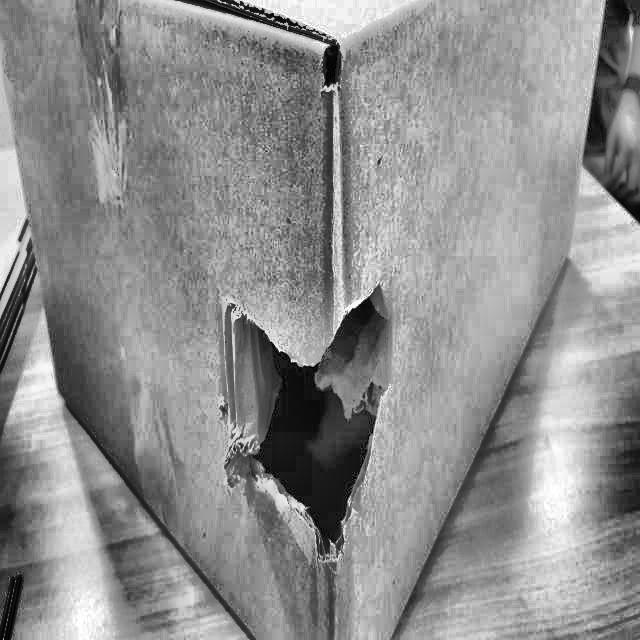box: (0, 0, 618, 639)
hole: (224, 279, 398, 565)
